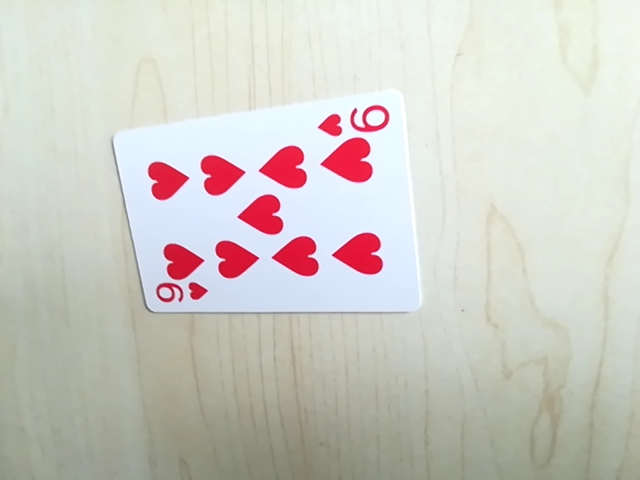hx 9: (317, 98, 393, 139), (150, 280, 210, 310)
